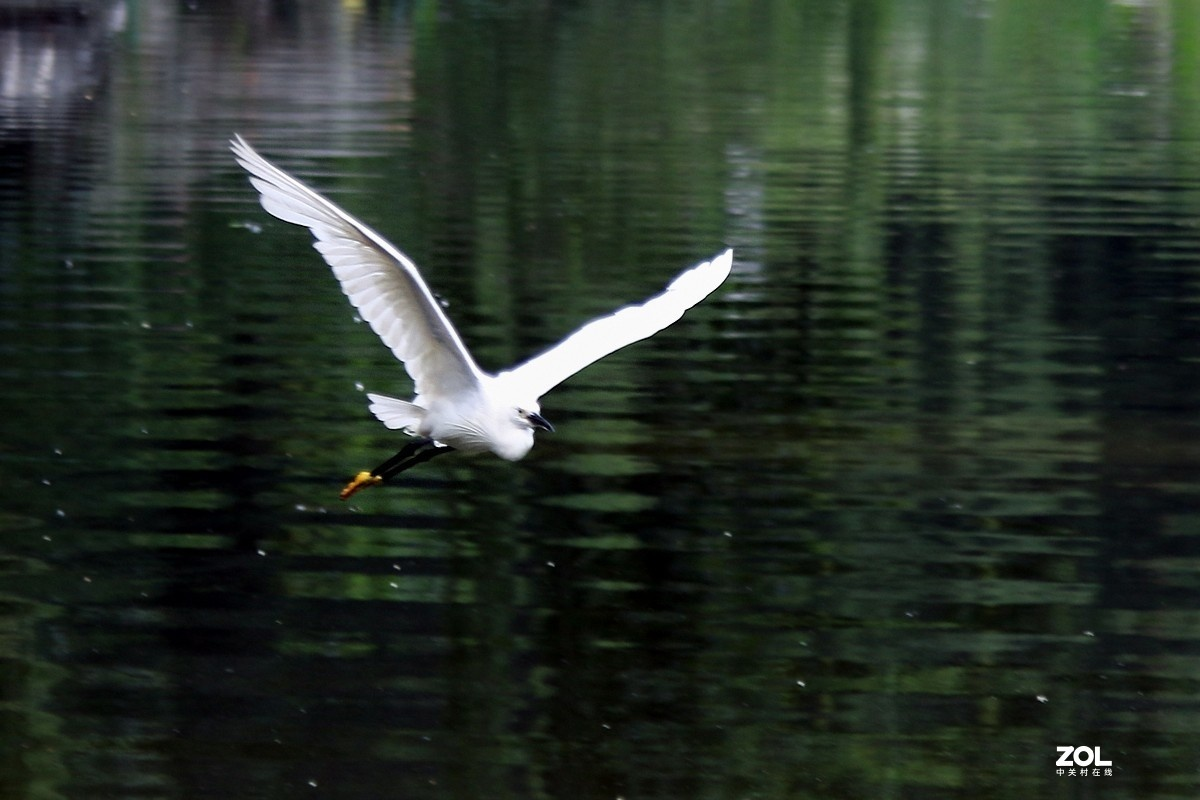bird: (225, 124, 734, 501)
